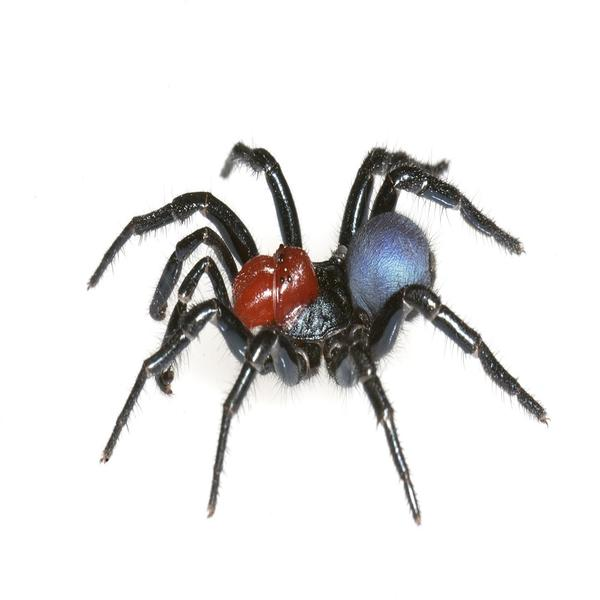Red Headed Mouse Spider: (95, 144, 541, 513)
